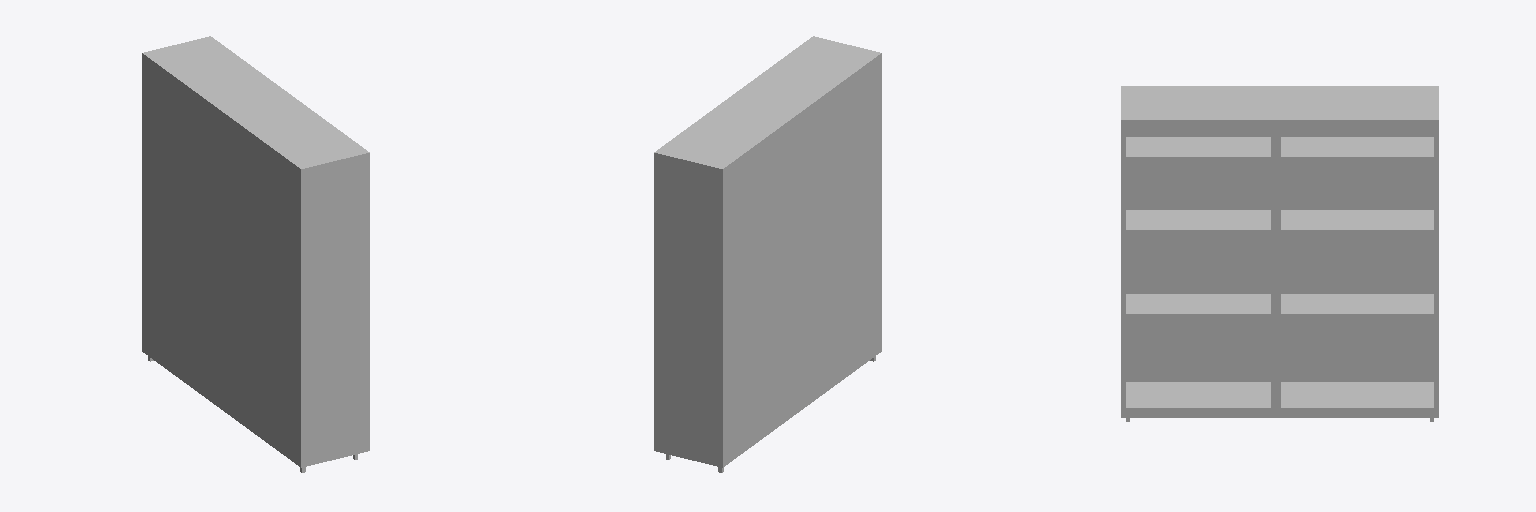
File: Fridge(Longboi).obj
3 renders of one model, left to right at view 1: azimuth 30°, elevation 25°; view 2: azimuth 150°, elevation 25°; view 3: azimuth 270°, elevation 25°, orthographic.
Parts seen in each view (by area): view 1: Cube; view 2: Cube; view 3: Cube.
Boxes of the visible parts, <box> form: Cube: <box>142,36,369,472</box>; Cube: <box>654,36,881,472</box>; Cube: <box>1121,86,1438,421</box>.
Bounding box in the file's own units: 2.12 × 9.03 × 8.49.